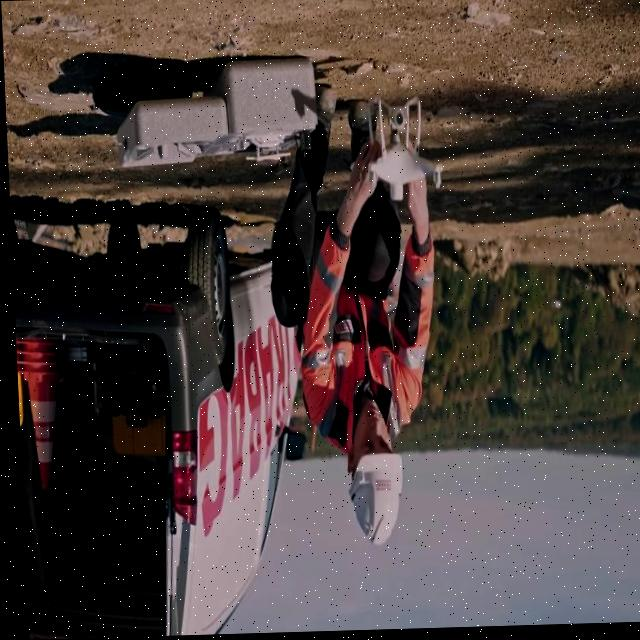drone: (365, 96, 442, 203)
